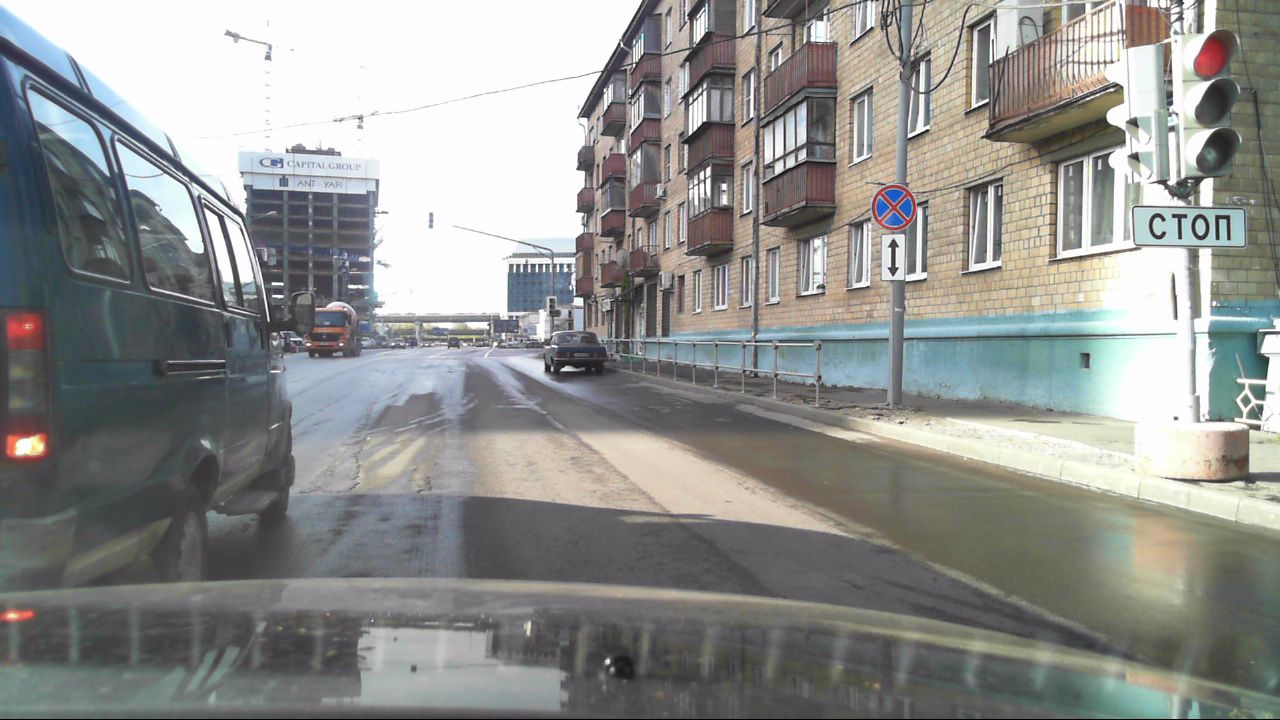No Parking: (873, 183, 917, 228)
